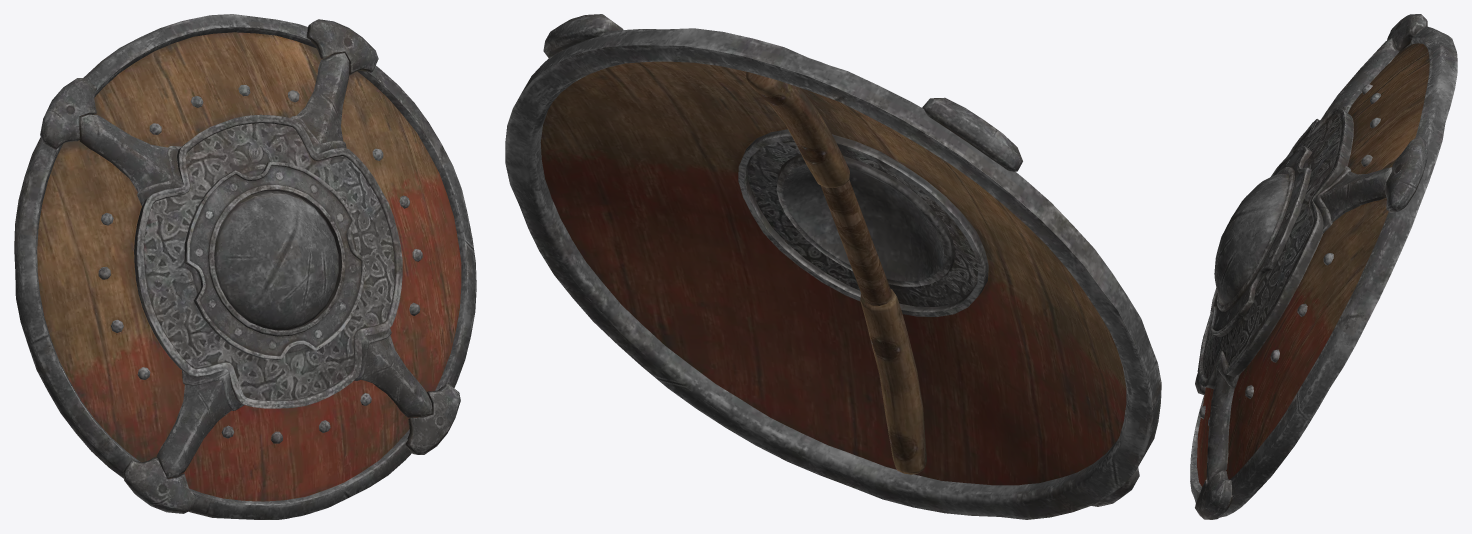
File: medival-shield-compressed.glb
3 views of the same model, side by side, from view 1: azimuth 30°, elevation 25°; view 2: azimuth 150°, elevation 25°; view 3: azimuth 270°, elevation 25° (orthographic). The views are drawn at different scales.
Visible parts, largest first — view 1: SM_Medieval_Shield_M_Medieval_Shield_0; view 2: SM_Medieval_Shield_M_Medieval_Shield_0; view 3: SM_Medieval_Shield_M_Medieval_Shield_0.
Boxes of the visible parts, x1,y1,x2,y2 form: SM_Medieval_Shield_M_Medieval_Shield_0: [14, 14, 476, 519]; SM_Medieval_Shield_M_Medieval_Shield_0: [505, 14, 1161, 519]; SM_Medieval_Shield_M_Medieval_Shield_0: [1190, 14, 1457, 519].
Size of the model in its own units: 1.01 by 0.9118 by 0.509.
1 material, 1 textured.
